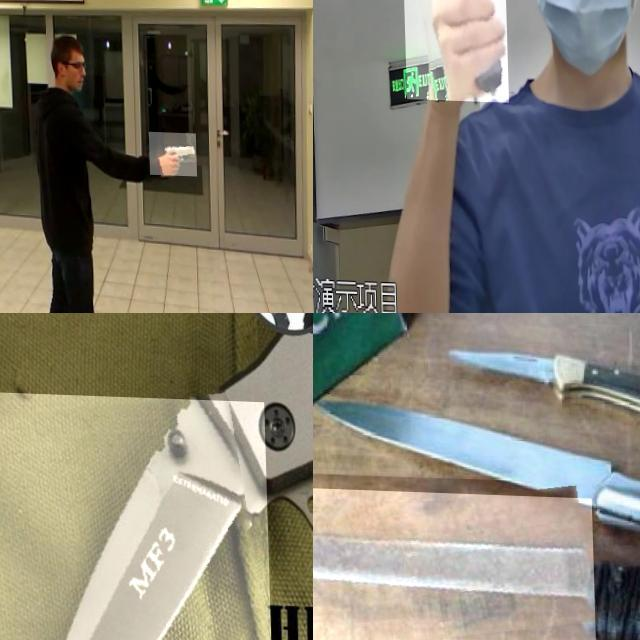-: (0, 391, 270, 640), (313, 484, 592, 640), (313, 390, 611, 525), (440, 335, 569, 401)
gun-knife-thesis - v11 Yolov5 augmented: (397, 0, 506, 141), (146, 129, 194, 173)
